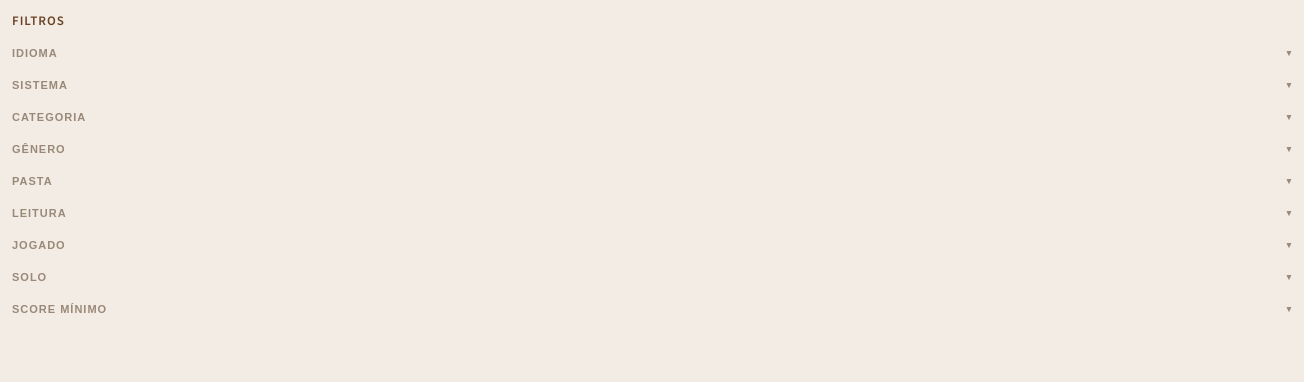
FilterSidebar — grupos colapsáveis › clicking group heading again collapses it
The width and height of the screenshot is (1304, 382).
Click the button "Sistema ▾" at coordinates (40, 85), box top-left (12, 77), bottom-right (1292, 93)
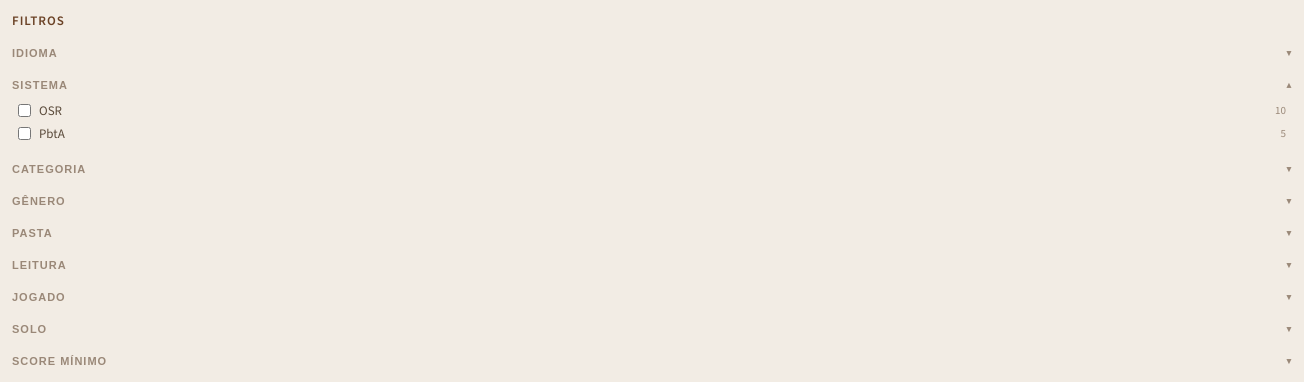
Expected: the checkbox labelled "OSR" is shown, top-left (18, 104), bottom-right (31, 117)
Click the button "Sistema ▴" at coordinates (40, 85), box top-left (12, 77), bottom-right (1292, 93)
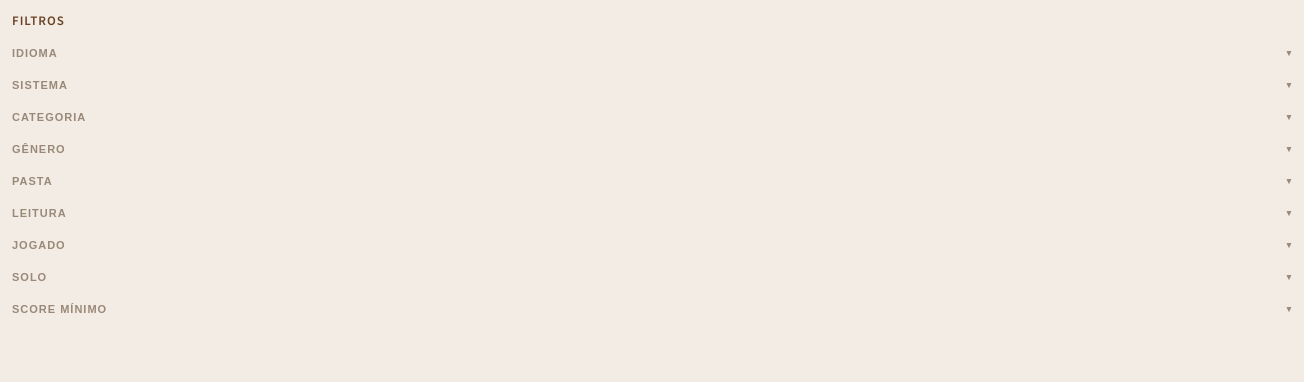
Expected: the text "OSR" is gone
